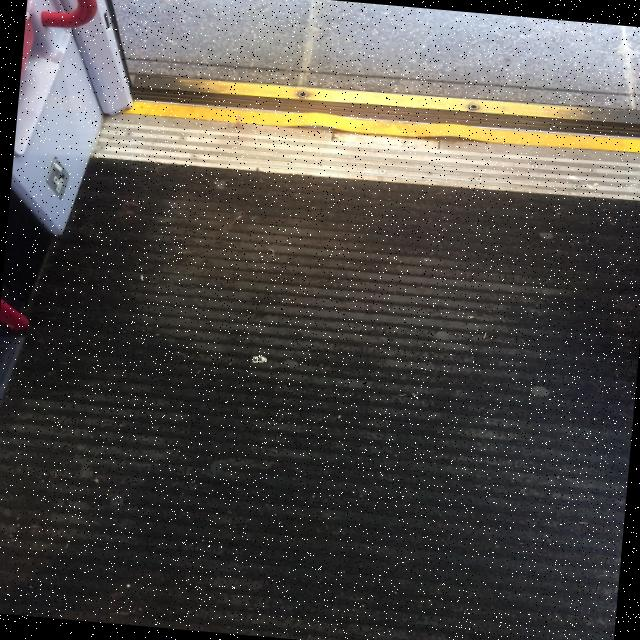Pop tab: (253, 356, 265, 362)
